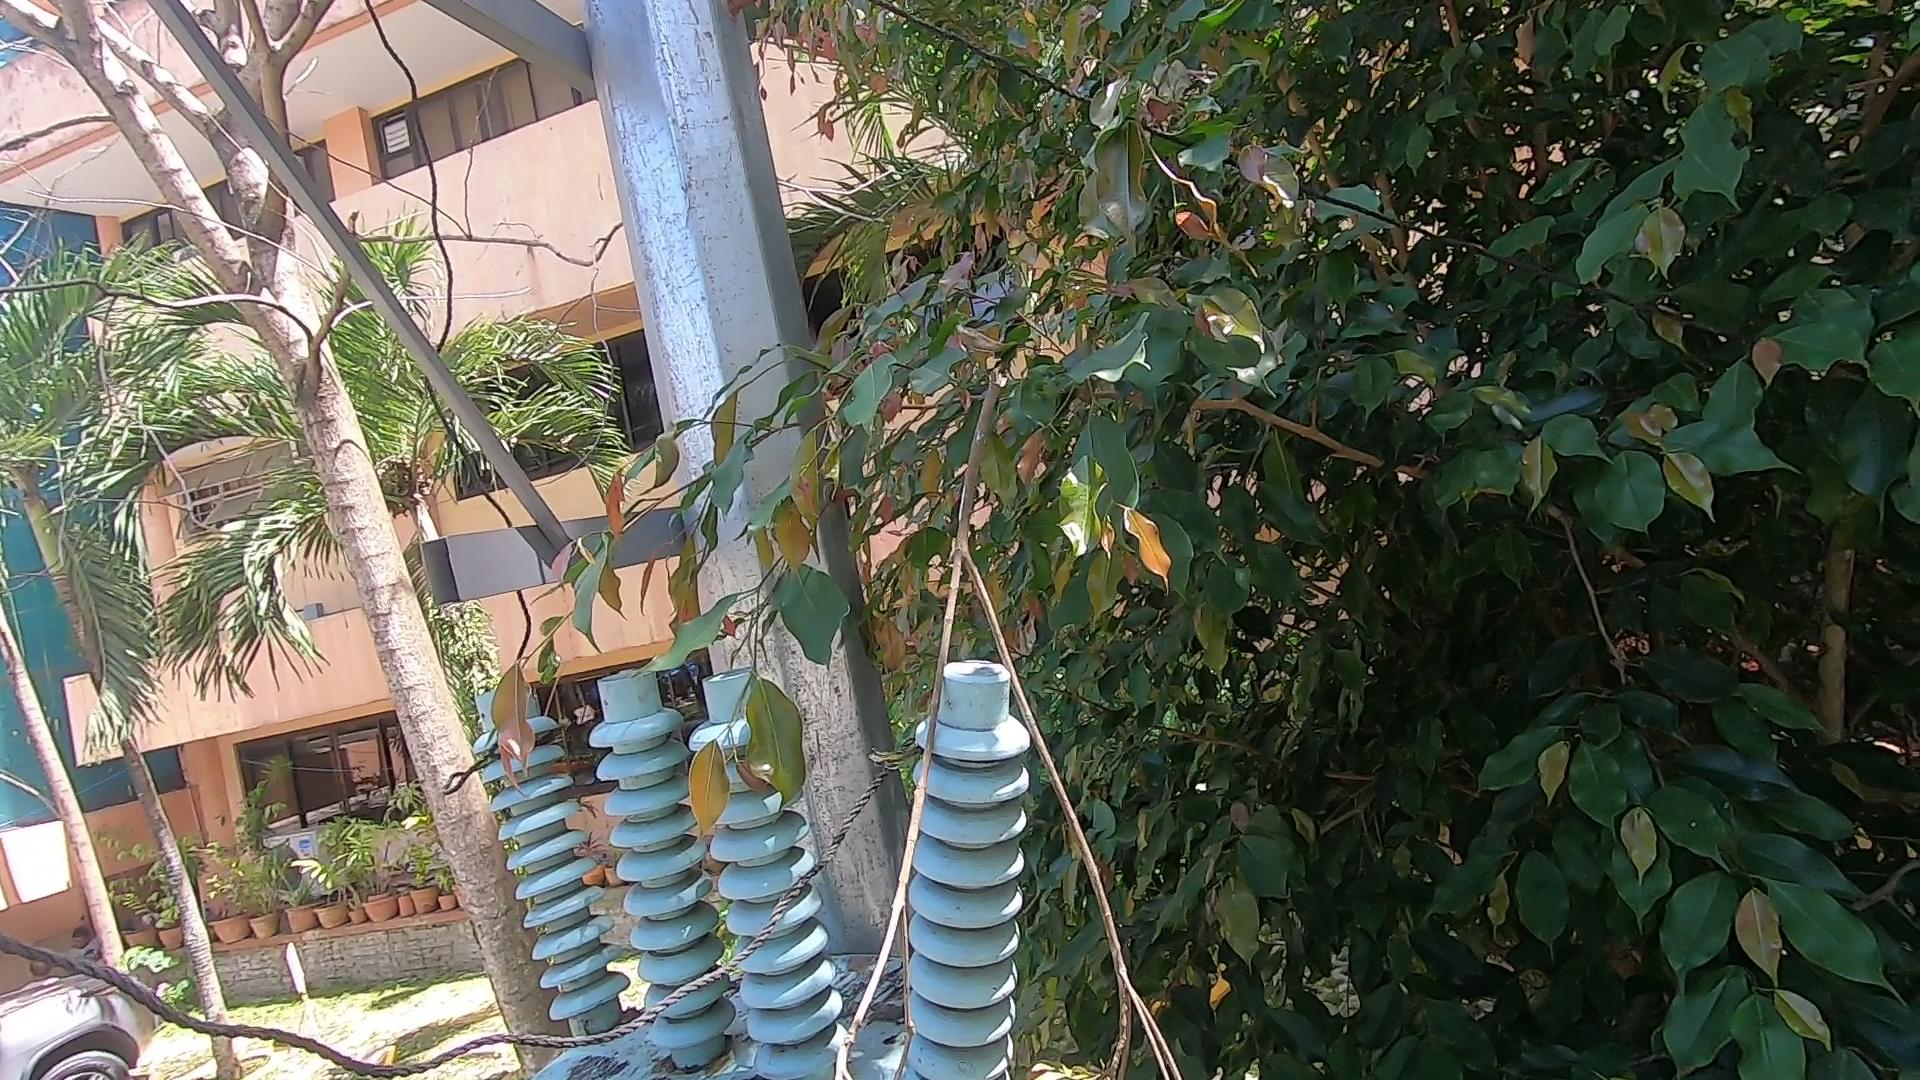tree branch: (789, 363, 1189, 1075)
